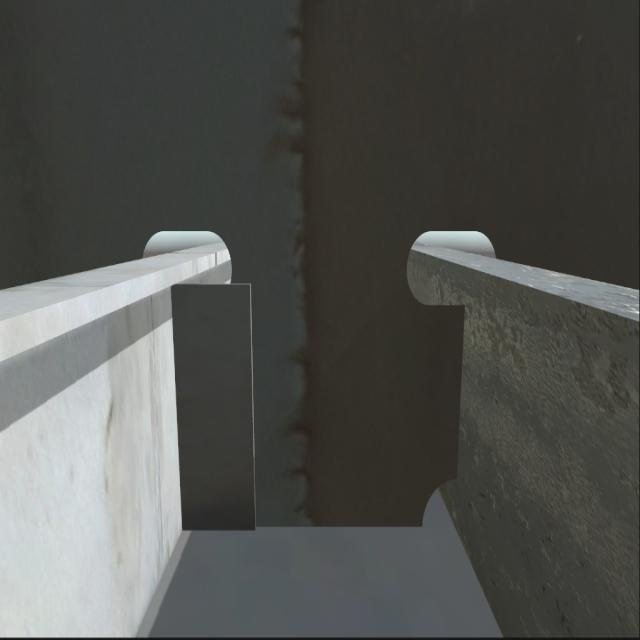fillet_hole: (176, 279, 255, 533), (410, 472, 460, 546)
fillet_yong_jeop_jang: (179, 514, 422, 536)
longi_yong_jeop_jang: (169, 284, 187, 542), (446, 301, 471, 479)
